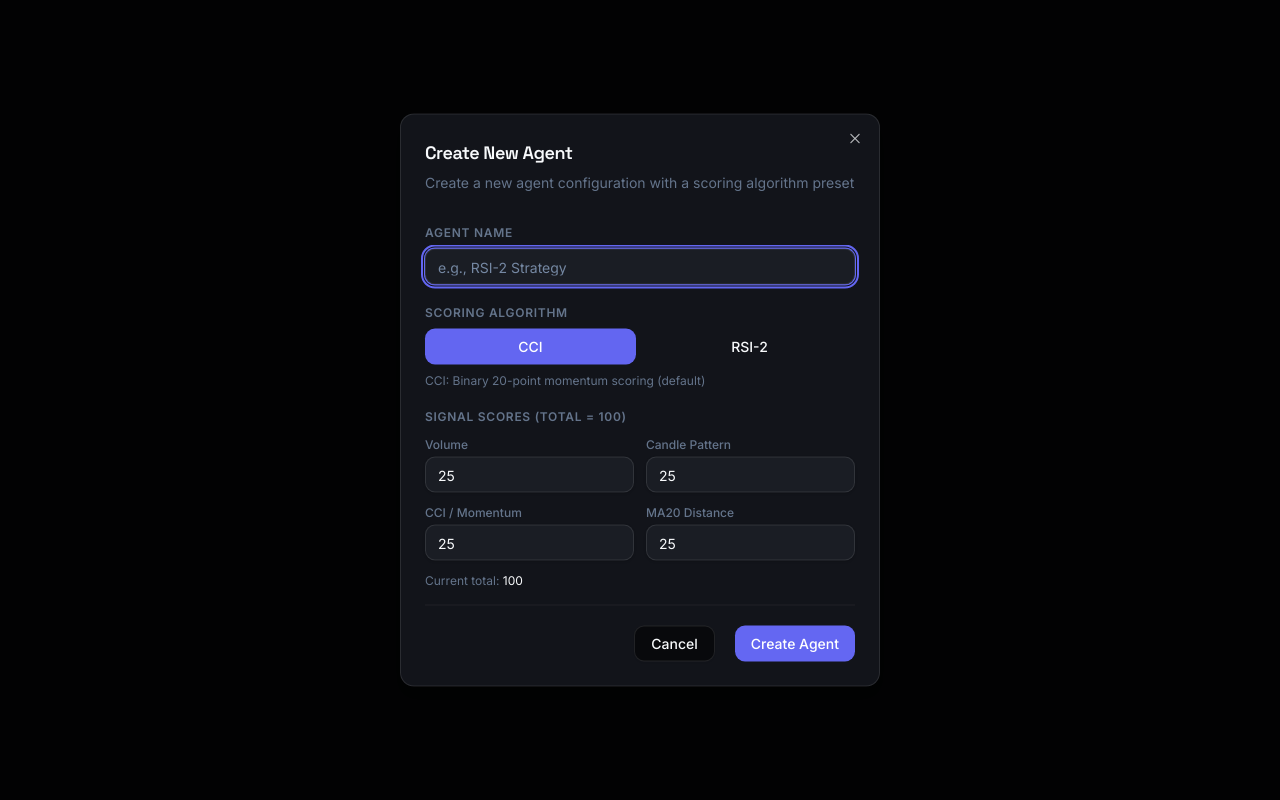
Test: CreateAgentDialog › blocks submit when scores do not sum to 100
The image size is (1280, 800).
Type "Bad Total" into the field labelled "Agent Name".
click(640, 266); type("Bad Total")  # box x1=425 y1=248 x2=855 y2=284
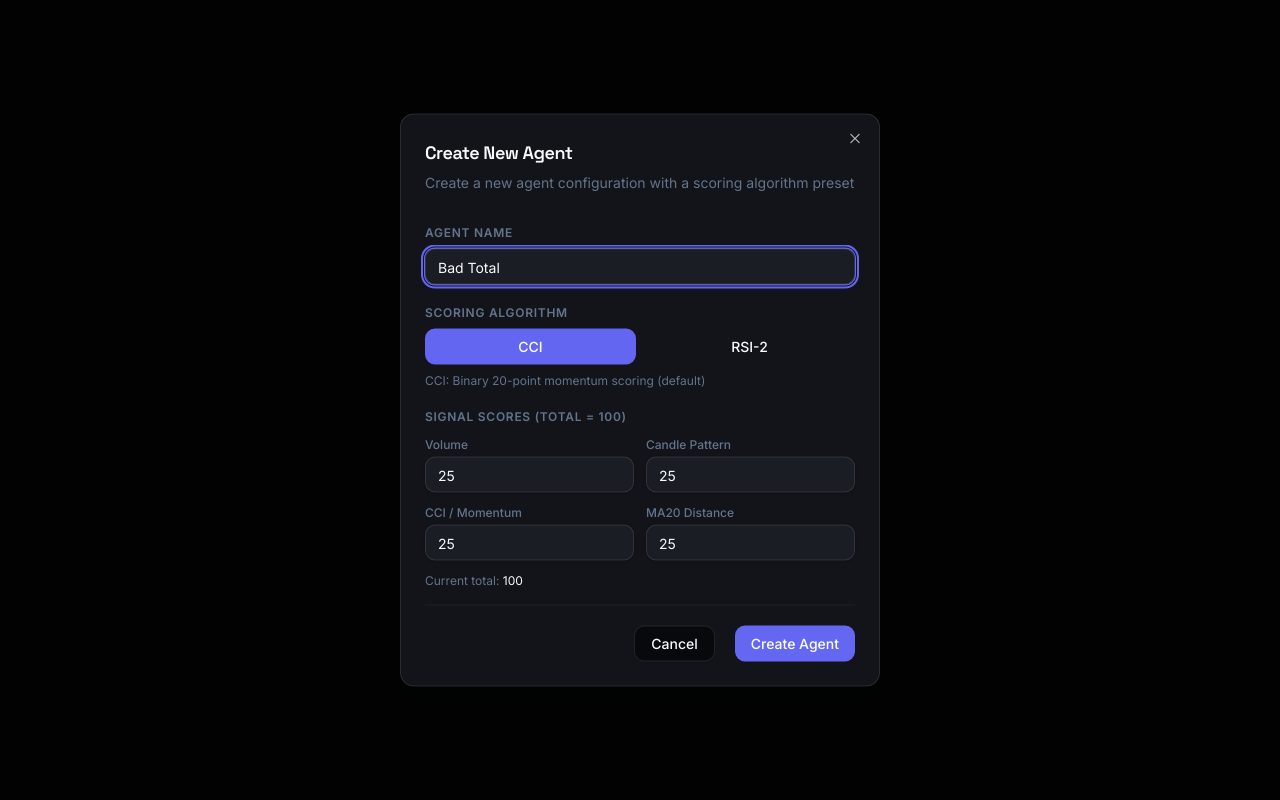
Replace the text in the number field labelled "Volume" with "10" at [530, 474], box x1=425 y1=456 x2=634 y2=492
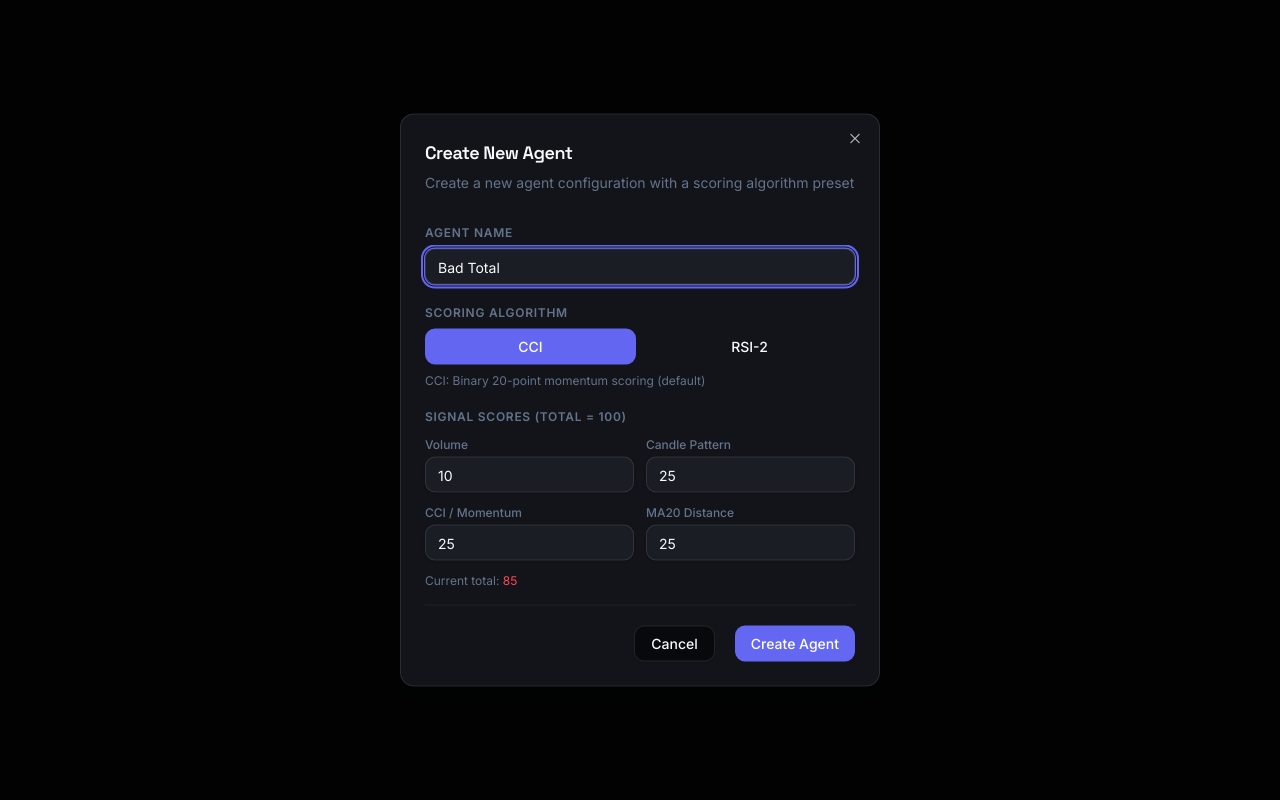
Click the button "Create Agent".
click(795, 644)  # box x1=735 y1=626 x2=855 y2=662
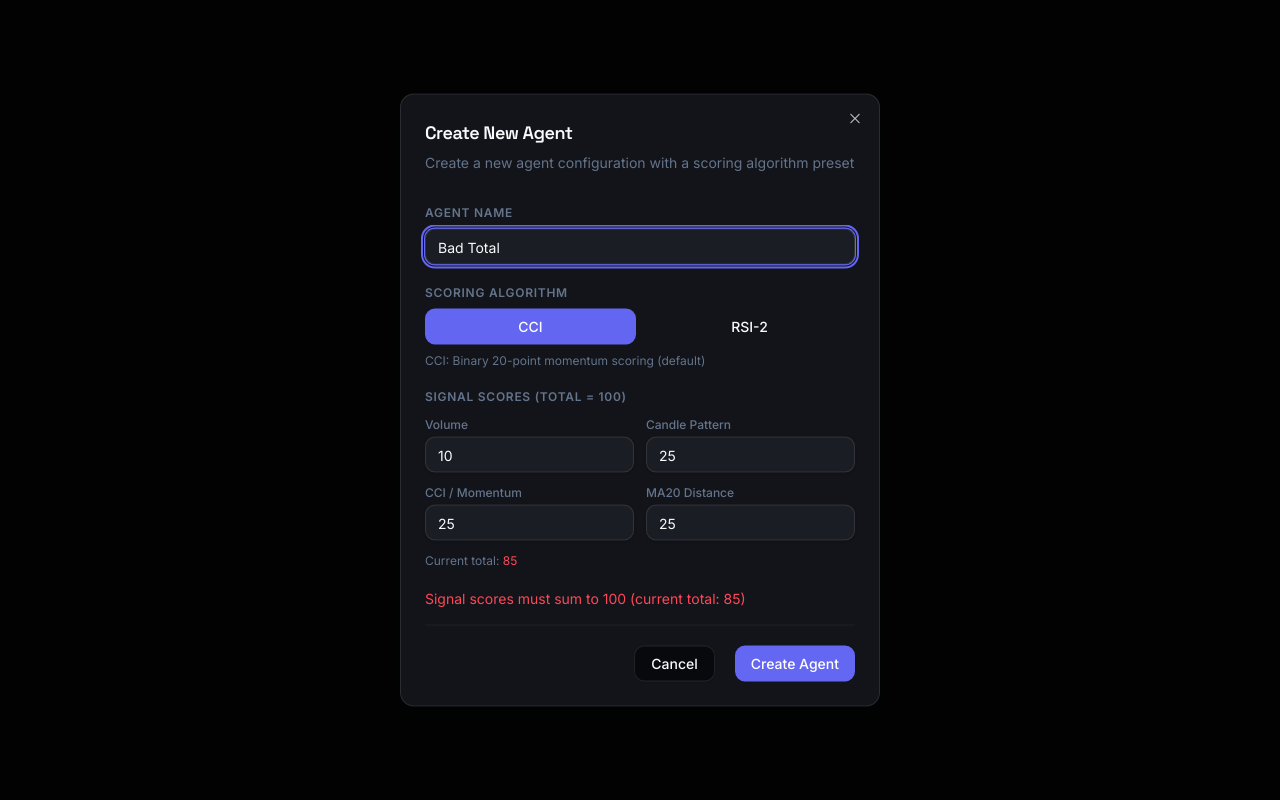
Check: the text "Signal scores must sum to 100 (current total: 85)" is shown, box x1=425 y1=590 x2=746 y2=606
